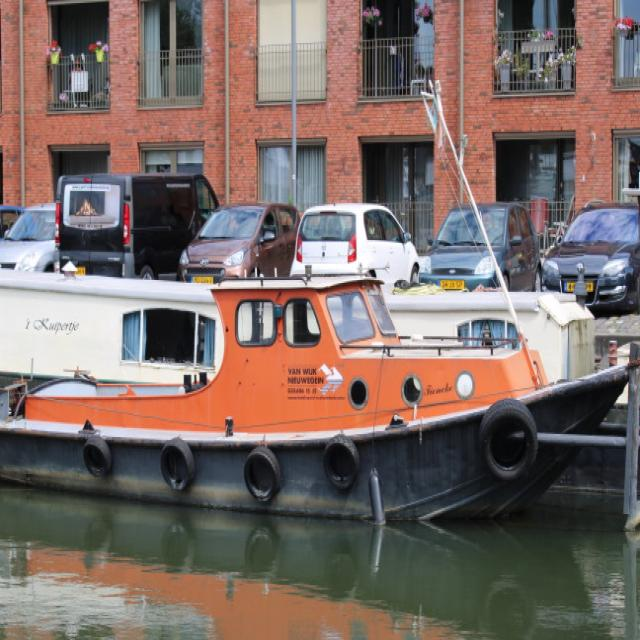tugboat: (1, 253, 640, 539)
